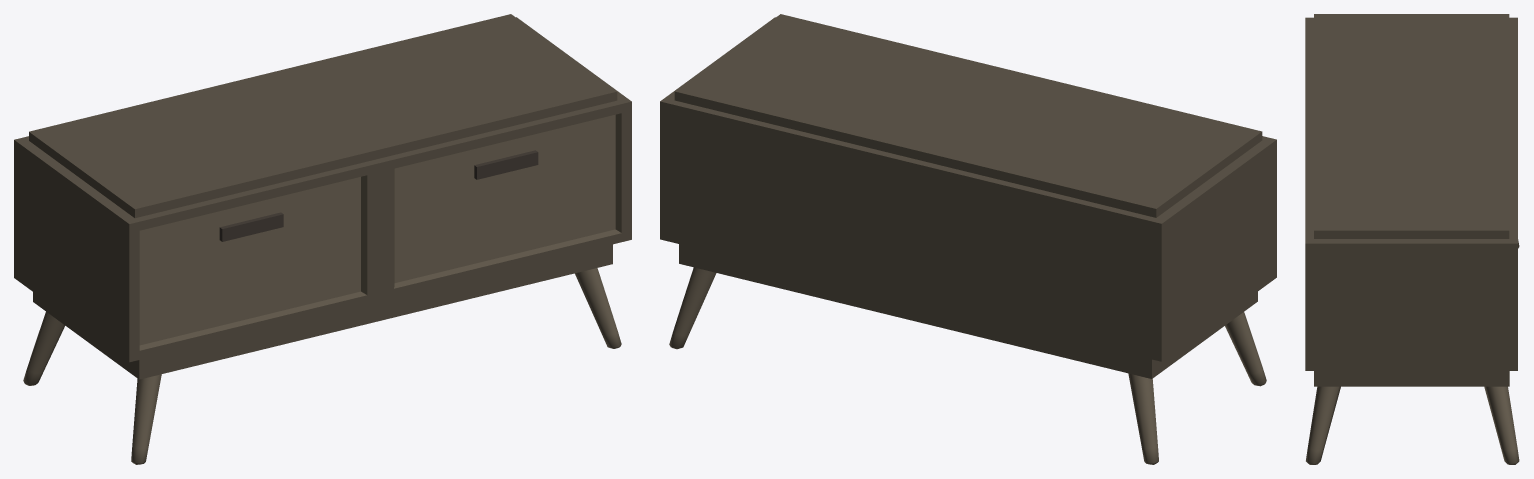
Rendered from drawer-1.glb.
The picture shows the model from 3 angles, left to right: view 1: azimuth 30°, elevation 25°; view 2: azimuth 150°, elevation 25°; view 3: azimuth 270°, elevation 25°; orthographic projection. The views are drawn at different scales.
Parts seen in each view (by area): view 1: Drawer_1; view 2: Drawer_1; view 3: Drawer_1.
Part boxes in pixels (x1,y1,x2,y2): Drawer_1: [14, 14, 631, 464]; Drawer_1: [660, 14, 1276, 464]; Drawer_1: [1305, 14, 1519, 464].
Bounding box in the file's own units: 2.79 × 1.35 × 1.12.
